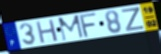3: (19, 22, 37, 47)
8: (104, 9, 123, 34)
F: (79, 11, 99, 39)
H: (35, 18, 60, 45)
M: (57, 14, 85, 43)
Z: (121, 7, 145, 33)
